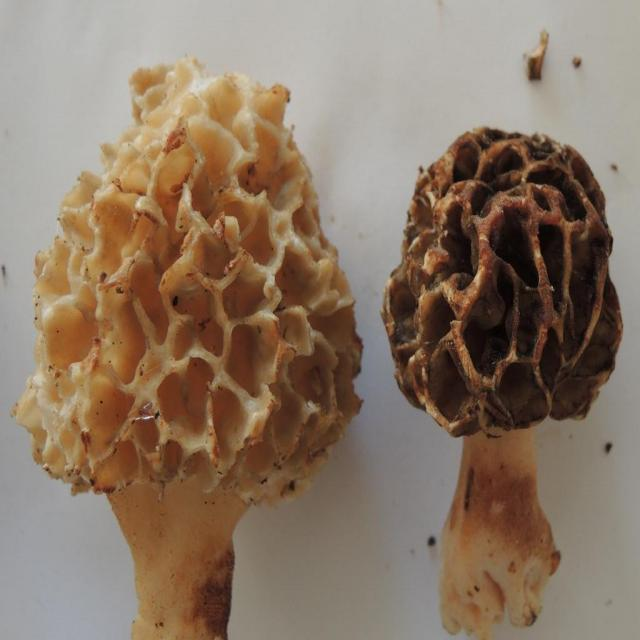Morchella esculenta: (17, 64, 364, 640), (383, 129, 624, 636)
